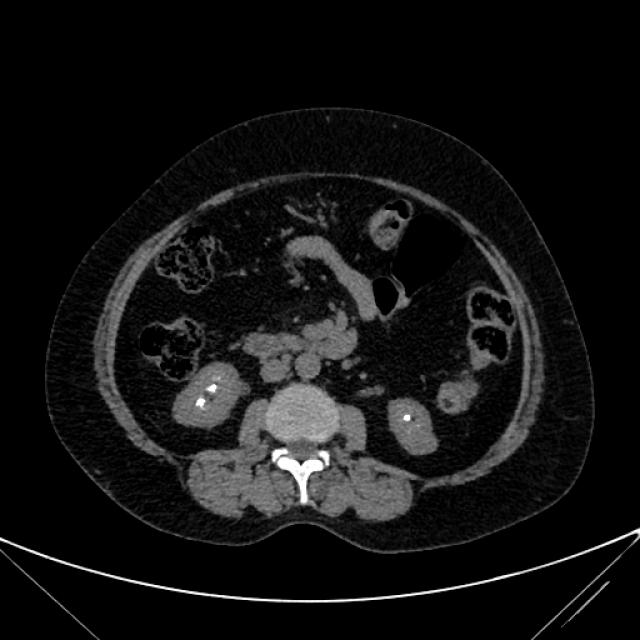kidney: (170, 362, 246, 430), (387, 396, 441, 460)
stone: (207, 382, 220, 392), (195, 397, 206, 408), (403, 414, 411, 421)
